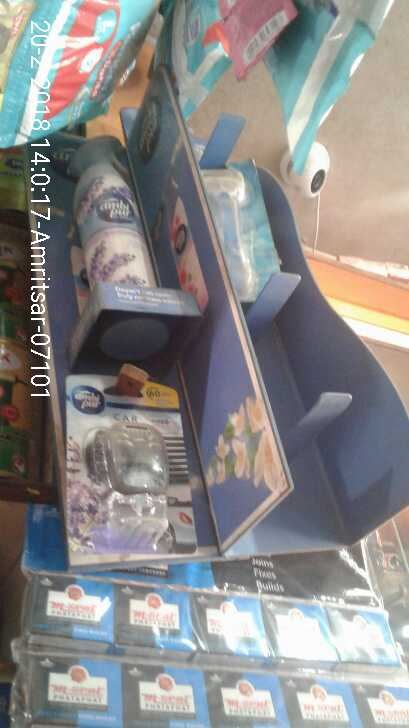beauty: (181, 143, 283, 303)
home: (65, 370, 200, 555), (64, 119, 159, 308)
